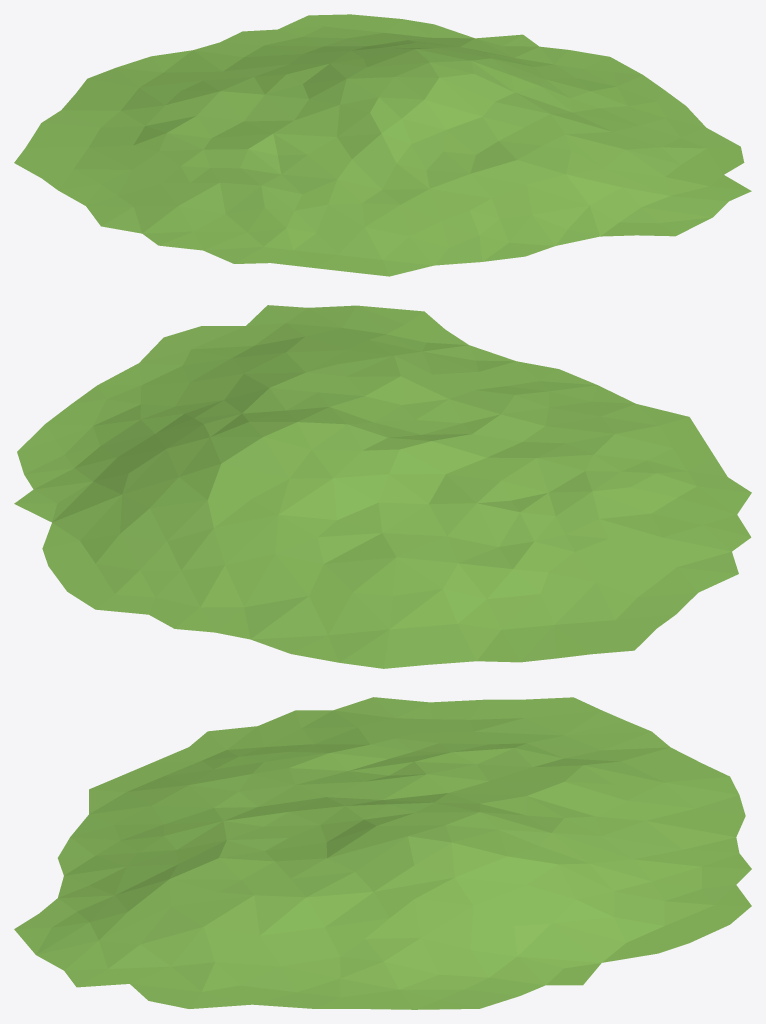
The model's file is MT_Mountain_M_a_04_LOD.fbx.
The picture shows the model from 3 angles, top to bottom: view 1: azimuth 30°, elevation 25°; view 2: azimuth 150°, elevation 25°; view 3: azimuth 270°, elevation 25°; orthographic projection. The views are drawn at different scales.
Parts seen in each view (by area): view 1: MT_Mountain_M_a_04_LOD0; view 2: MT_Mountain_M_a_04_LOD0; view 3: MT_Mountain_M_a_04_LOD0.
Boxes of the visible parts, bbox=[...] form: MT_Mountain_M_a_04_LOD0: bbox=[14, 14, 751, 276]; MT_Mountain_M_a_04_LOD0: bbox=[14, 305, 751, 668]; MT_Mountain_M_a_04_LOD0: bbox=[14, 697, 751, 1009].
Size of what is drawn, in the model's own units: 4648 by 410 by 4609.
